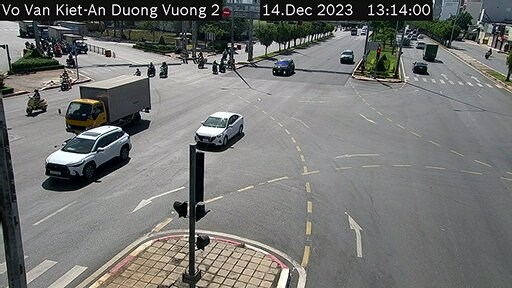car: (45, 129, 142, 184), (194, 110, 242, 153), (273, 56, 293, 80), (339, 47, 352, 63), (414, 61, 425, 74)
motorbike: (27, 92, 49, 114)
truck: (64, 78, 156, 128), (423, 40, 440, 62)
